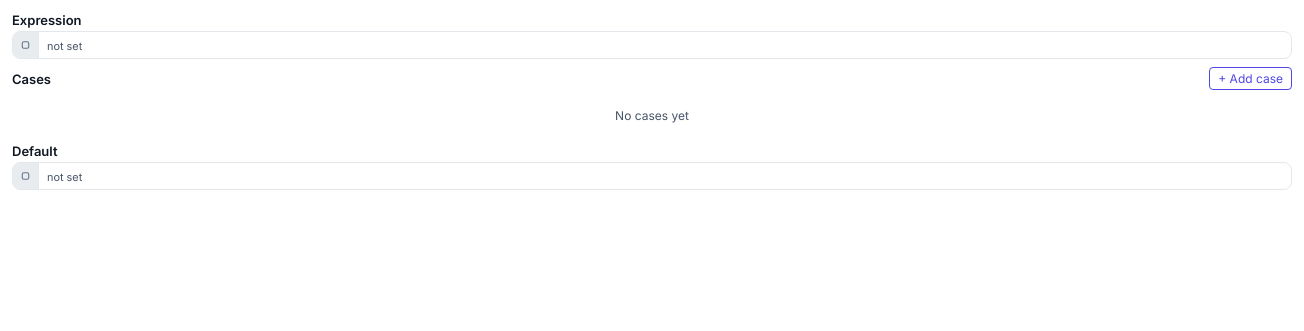
Test case: SwitchEditor › collapses a case row to a `when = then` preview and reopens it
The width and height of the screenshot is (1304, 331).
Step 1. Click the button "+ Add case" → (1251, 78), box [1209,67,1292,90]
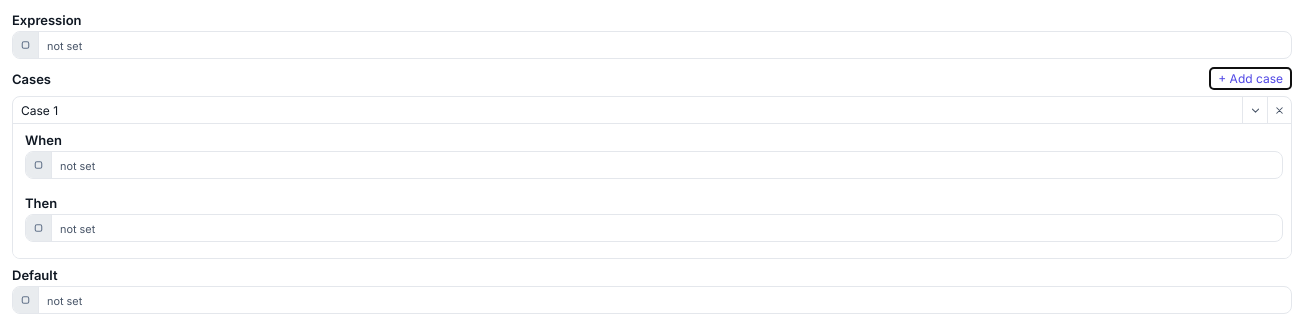
Check: the text "When" is shown, box [25,132,62,148]
Step 2. Click the button named "Collapse" → (1255, 110), box [1243,97,1267,123]
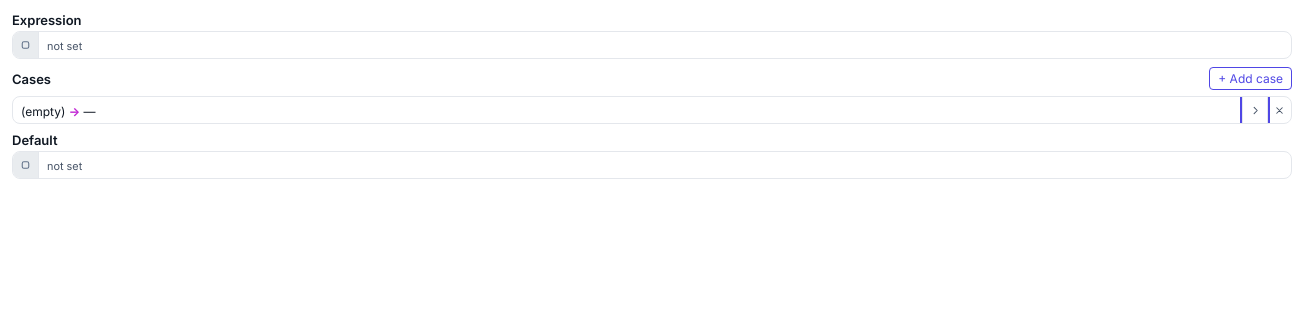
Check: the text "When" is gone
Check: the text "→" is shown, box [69,104,80,119]
Check: the text "(empty) → —" is shown, box [21,104,96,119]
Step 3. Click the button named "Expand" → (1255, 110), box [1243,97,1267,123]
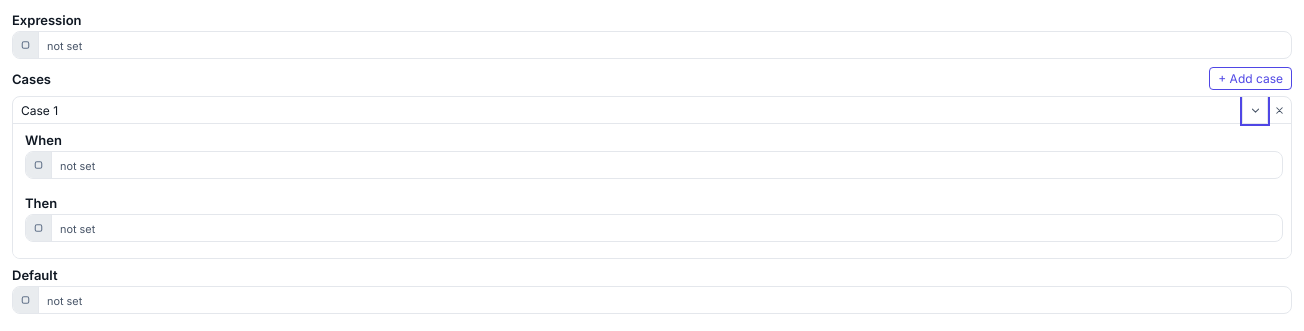
Check: the text "When" is shown, box [25,132,62,148]
